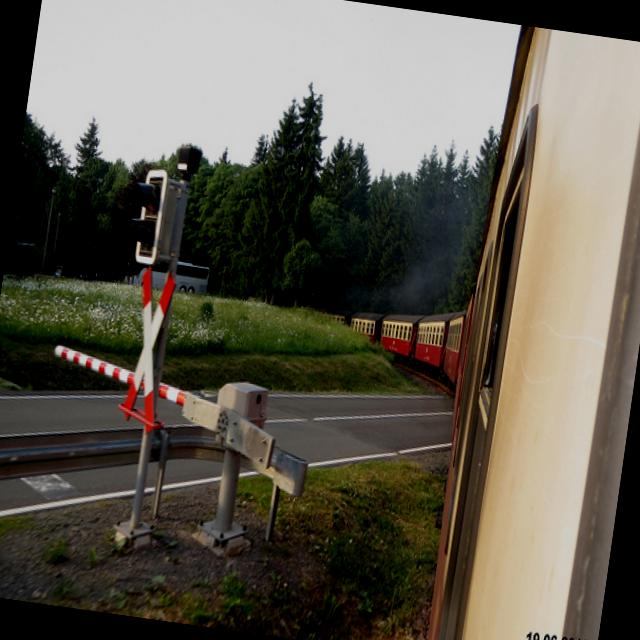Vehicle: (120, 253, 212, 300)
